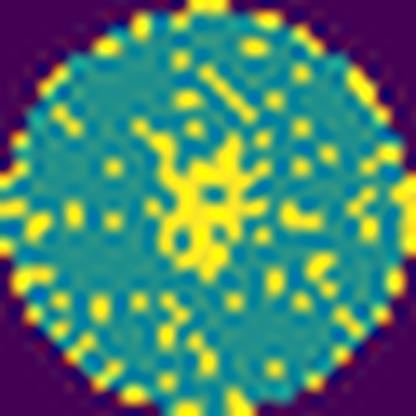Center: (133, 117, 272, 286)
